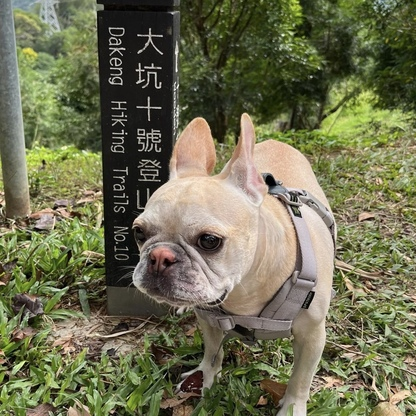bulldog: (129, 112, 339, 416)
